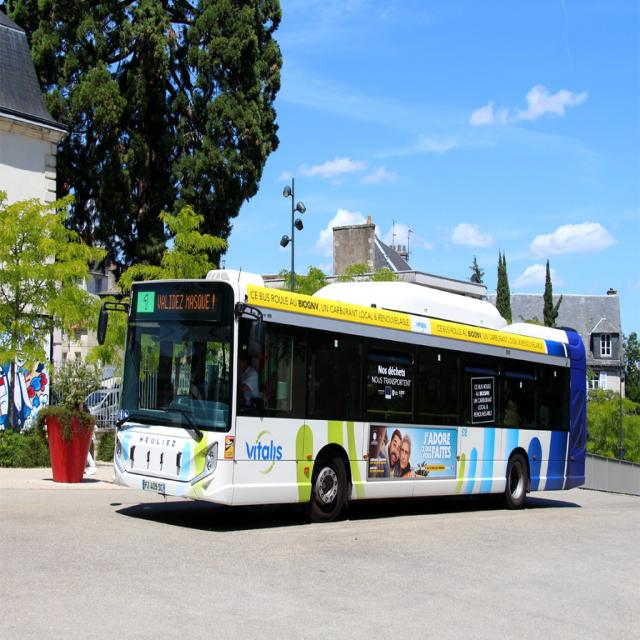Bus: (106, 271, 587, 521)
Tree: (0, 191, 104, 429)
